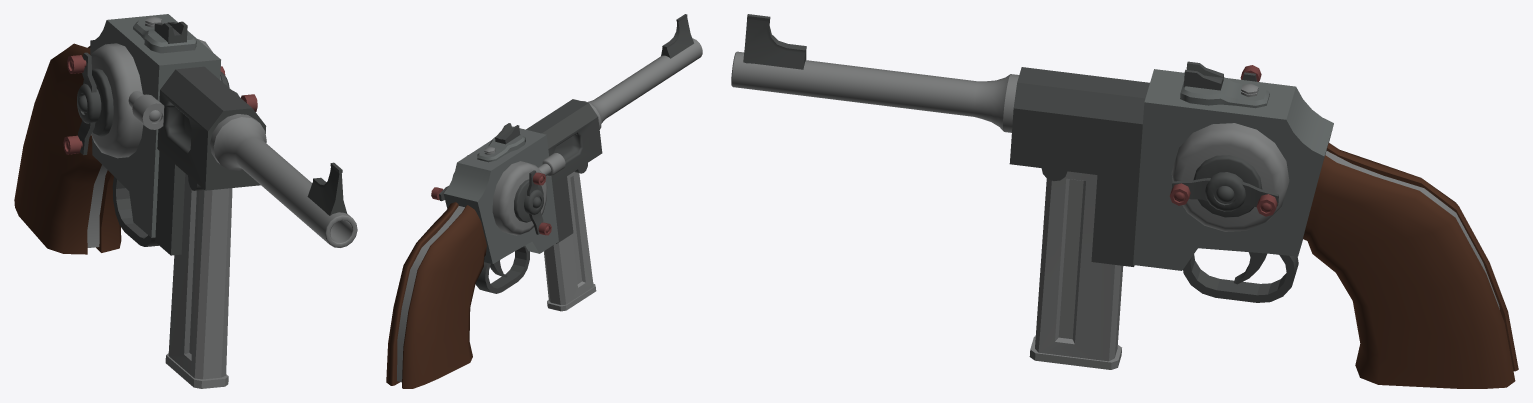
Rendered from Gun.fbx.
The picture shows the model from 3 angles, left to right: view 1: azimuth 30°, elevation 25°; view 2: azimuth 150°, elevation 25°; view 3: azimuth 270°, elevation 25°; orthographic projection. The views are drawn at different scales.
Parts seen in each view (by area): view 1: gun:polySurface9; view 2: gun:polySurface9; view 3: gun:polySurface9.
Part boxes in pixels (left/top/right/bottom): gun:polySurface9: left=14, top=14, right=357, bottom=388; gun:polySurface9: left=386, top=14, right=702, bottom=388; gun:polySurface9: left=731, top=14, right=1518, bottom=388.
Size of the model in its own units: 0.5871 by 1.1 by 2.33.
